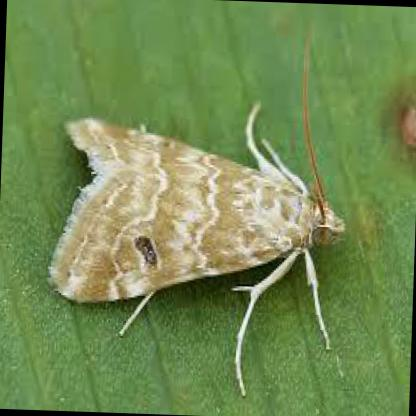Hellula undalis: (42, 26, 357, 406)
